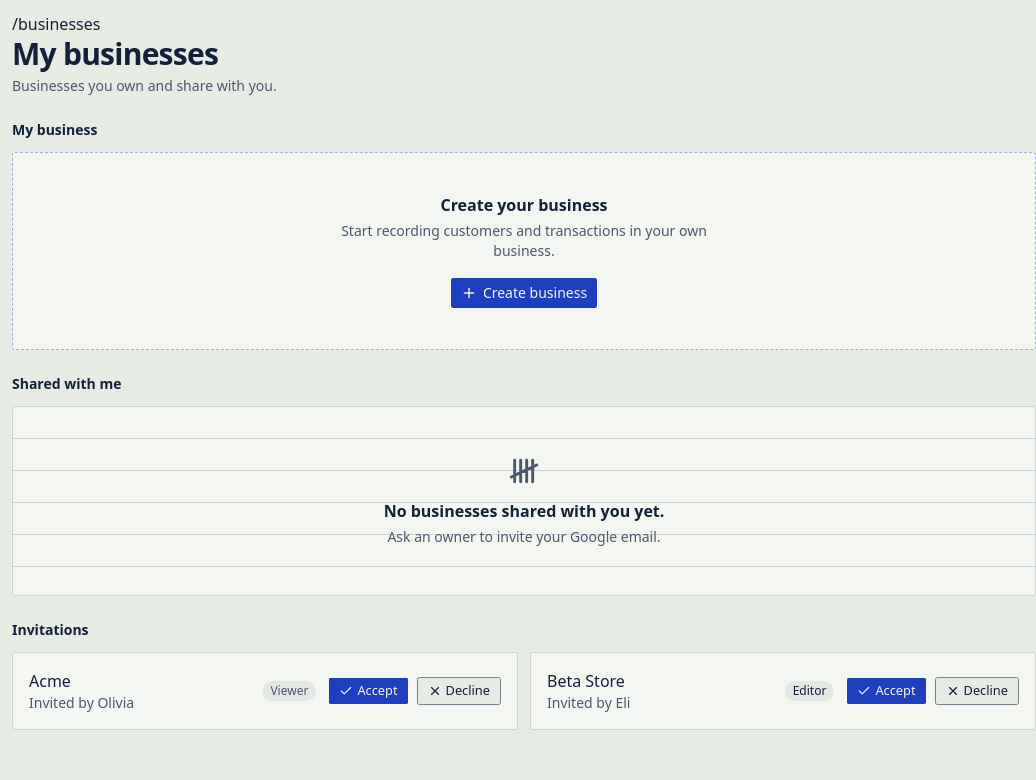
Test: S-24 stale invitation › shows the database's message and the card disappears
Click the button "Accept" next to "Viewer": coordinates (368, 691) [328,677,409,705]
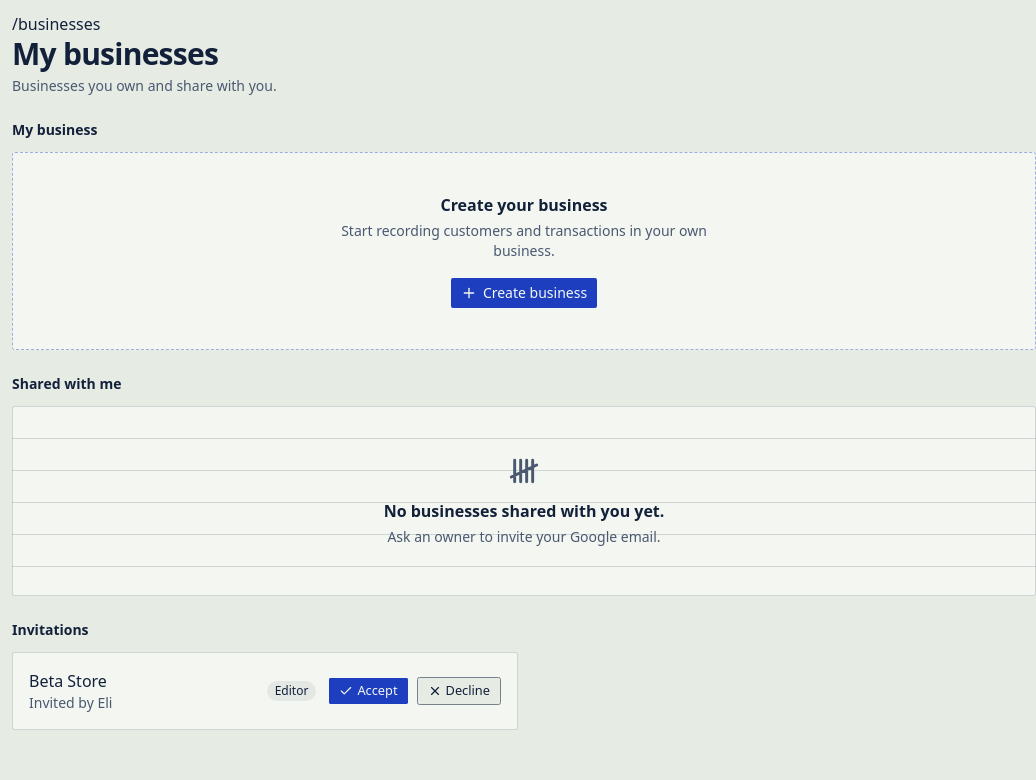
Expected: the text "Beta Store" is shown, [29,670,107,692]
Now the text "Acme" is gone
